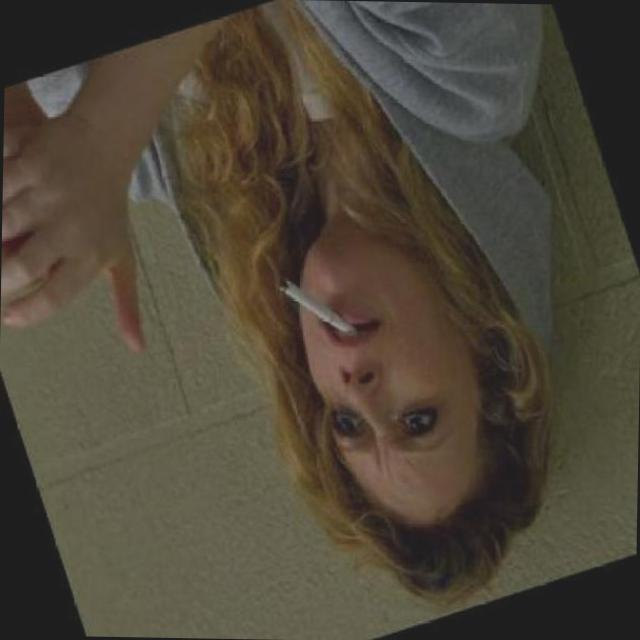smoke: (274, 255, 358, 352)
